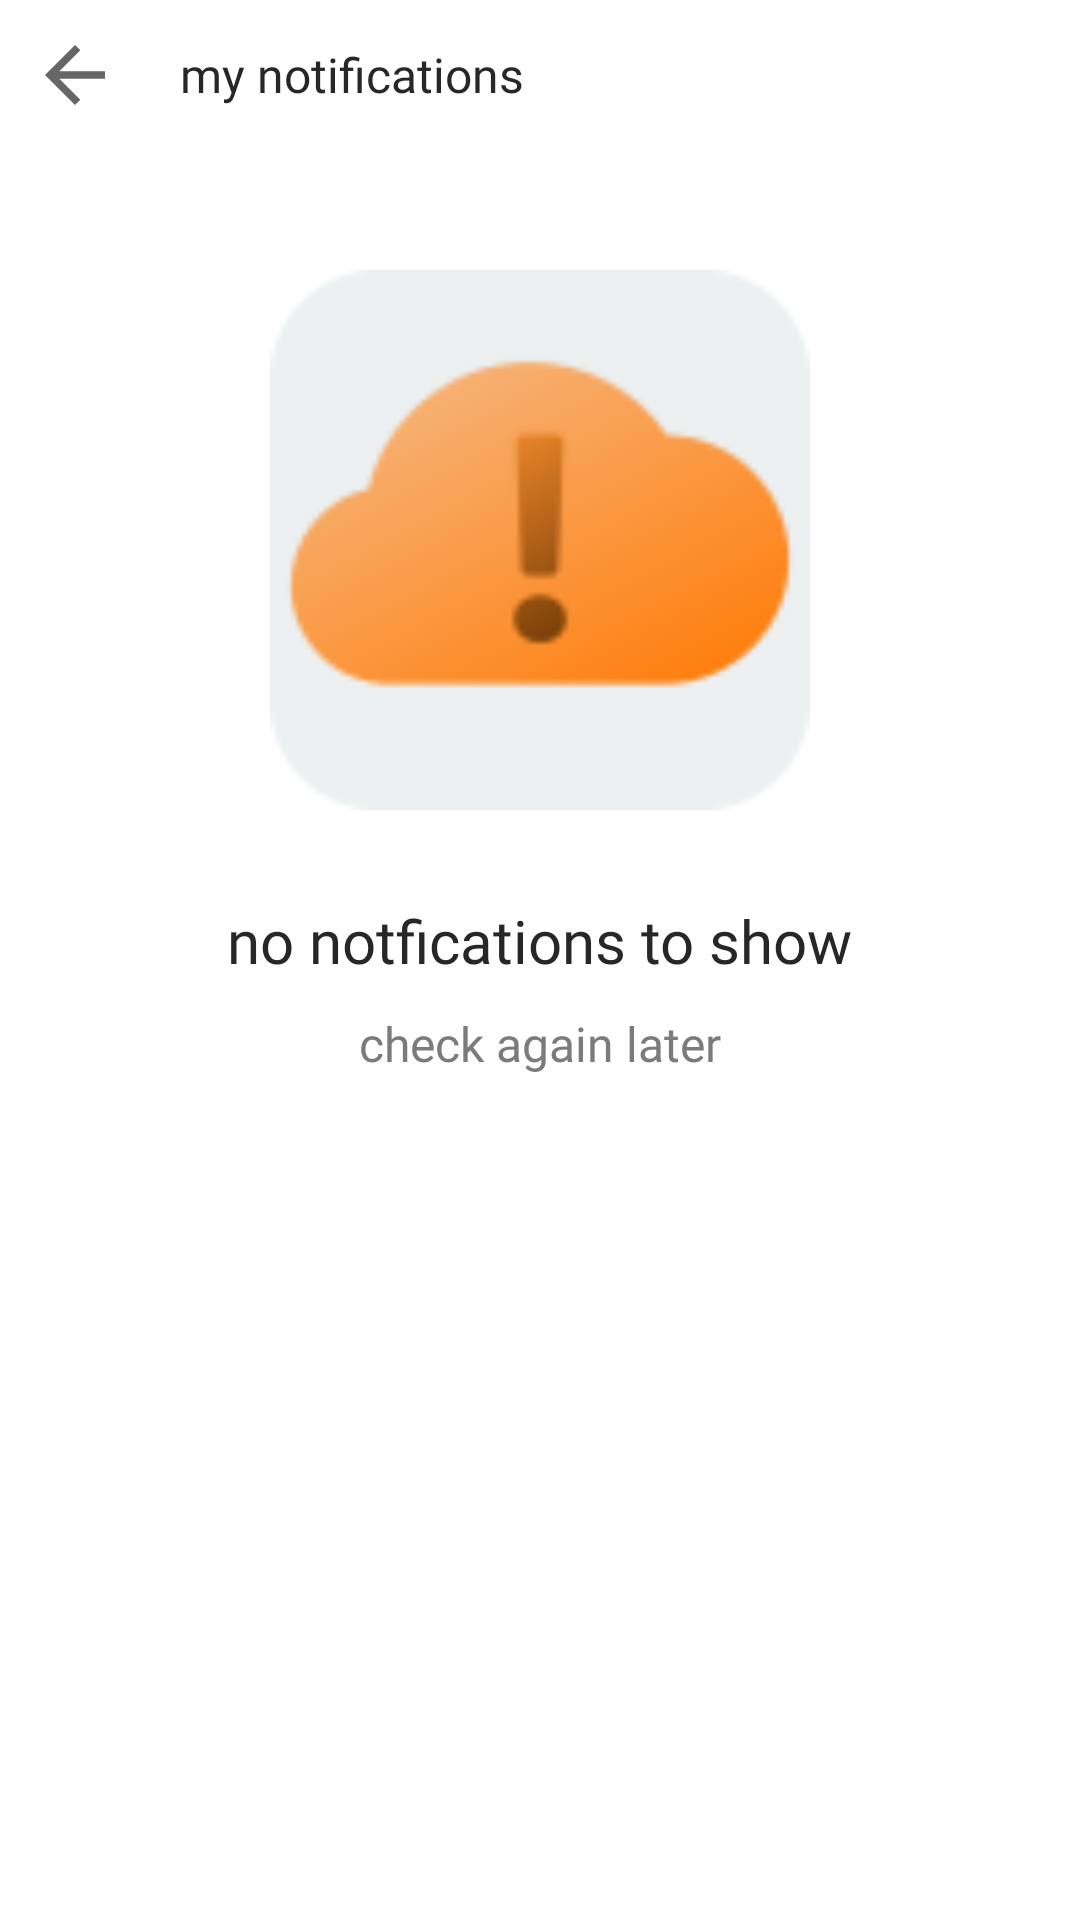

Locate icon controls on the screen. Image size 1080 x 1920, boxes as (x1, y1, x2, y2).
back: (45, 45, 105, 105)
